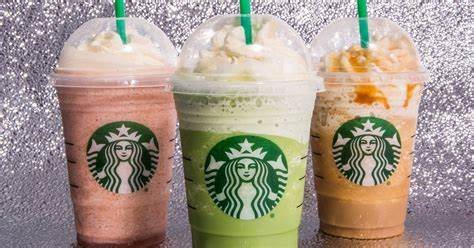starbucks Originale: (192, 128, 290, 230), (76, 114, 171, 210), (327, 108, 406, 198)
